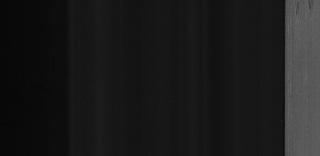silk spot: (287, 0, 319, 22)
